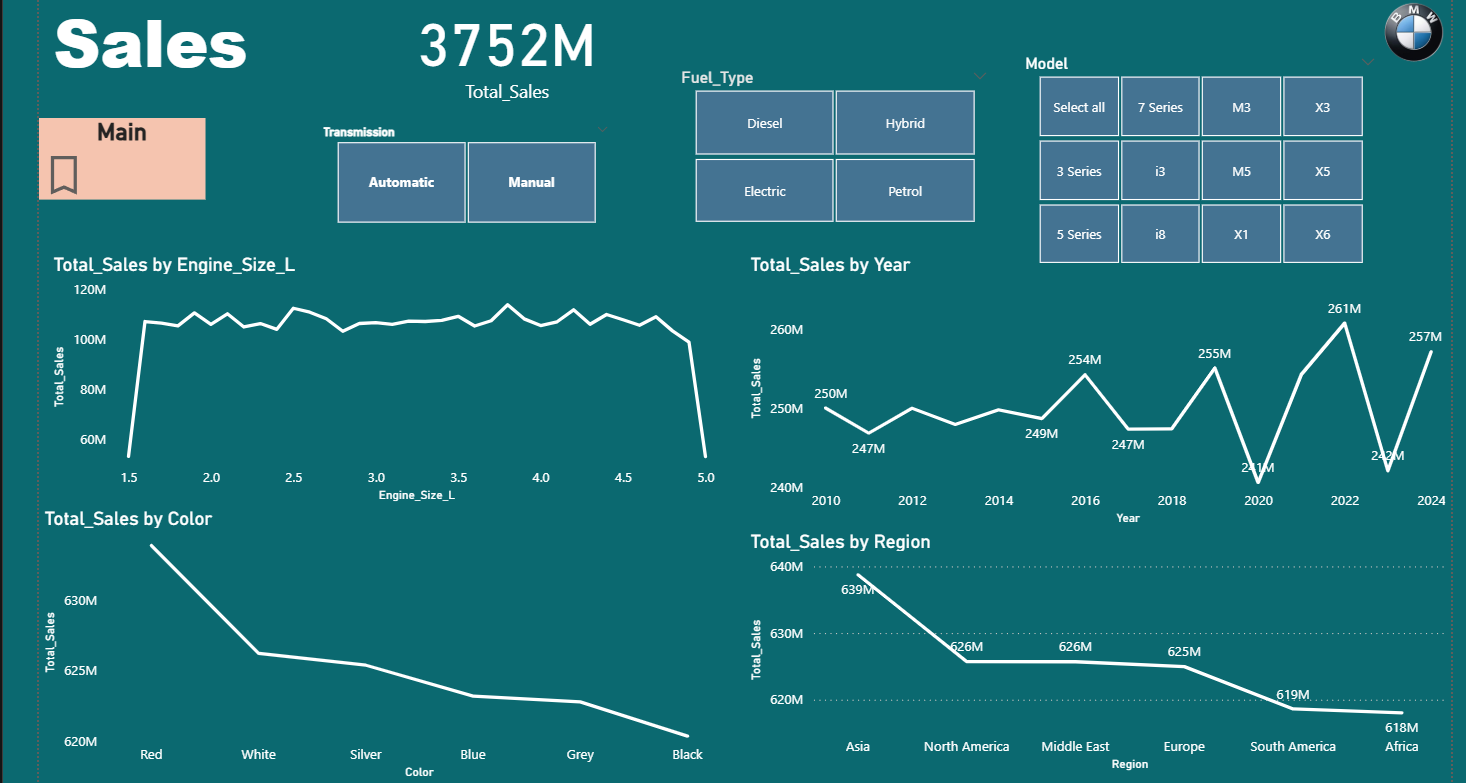

This screenshot's page, from the dashboard's own definition file:
{"tool":"powerbi","page":{"name":"Sales","canvas":[1280,720],"ordinal":1},"visuals":[{"type":"textbox","box":[8.2,0,201.3,101.6],"z":0},{"type":"image","box":[1052.8,0,227.6,182.3],"z":1000},{"type":"lineChart","fields":{"Category":["BMW sales data (2010-2024) (1).Region"],"Y":["BMW sales data (2010-2024) (1).Total_Sales"]},"box":[640.2,489.7,640.2,223.1],"z":2000},{"type":"lineChart","fields":{"Category":["BMW sales data (2010-2024) (1).Color"],"Y":["BMW sales data (2010-2024) (1).Total_Sales"]},"box":[0,468.8,632,251.2],"z":3000},{"type":"slicer","fields":{"Values":["BMW sales data (2010-2024) (1).Fuel_Type"]},"box":[569.5,66.2,302.9,151.4],"z":4000},{"type":"slicer","fields":{"Values":["BMW sales data (2010-2024) (1).Model"]},"box":[881.4,53.5,342.8,201.3],"z":5000},{"type":"lineChart","fields":{"Y":["BMW sales data (2010-2024) (1).Total_Sales"],"Category":["BMW sales data (2010-2024) (1).Year"]},"box":[640.2,238.5,640.2,251.2],"z":6000},{"type":"lineChart","fields":{"Category":["BMW sales data (2010-2024) (1).Engine_Size_L"],"Y":["BMW sales data (2010-2024) (1).Total_Sales"]},"box":[8.2,238.5,611.2,230.3],"z":7000},{"type":"slicer","fields":{"Values":["BMW sales data (2010-2024) (1).Transmission"]},"box":[244.8,116.6,283.7,100.8],"z":8000},{"type":"card","fields":{"Values":["BMW sales data (2010-2024) (1).Total_Sales"]},"box":[272,0,304.7,106.1],"z":9000},{"type":"actionButton","title":"Main","box":[0,116.1,150.5,74.4],"z":10000}]}

Visuals, with their boxes on the page's 1280x720 design canvas (x1, y1, x2, y2). These are canvas units, not pixel positions in the 1466x783 screenshot, which may show the page scaled, cropped or inside an application window:
textbox: {"x1": 8, "y1": 0, "x2": 210, "y2": 102}
image: {"x1": 1053, "y1": 0, "x2": 1280, "y2": 182}
lineChart - BMW sales data (2010-2024) (1).Region x BMW sales data (2010-2024) (1).Total_Sales: {"x1": 640, "y1": 490, "x2": 1280, "y2": 713}
lineChart - BMW sales data (2010-2024) (1).Color x BMW sales data (2010-2024) (1).Total_Sales: {"x1": 0, "y1": 469, "x2": 632, "y2": 720}
slicer - BMW sales data (2010-2024) (1).Fuel_Type: {"x1": 570, "y1": 66, "x2": 872, "y2": 218}
slicer - BMW sales data (2010-2024) (1).Model: {"x1": 881, "y1": 54, "x2": 1224, "y2": 255}
lineChart - BMW sales data (2010-2024) (1).Total_Sales x BMW sales data (2010-2024) (1).Year: {"x1": 640, "y1": 238, "x2": 1280, "y2": 490}
lineChart - BMW sales data (2010-2024) (1).Engine_Size_L x BMW sales data (2010-2024) (1).Total_Sales: {"x1": 8, "y1": 238, "x2": 619, "y2": 469}
slicer - BMW sales data (2010-2024) (1).Transmission: {"x1": 245, "y1": 117, "x2": 528, "y2": 217}
card - BMW sales data (2010-2024) (1).Total_Sales: {"x1": 272, "y1": 0, "x2": 577, "y2": 106}
"Main" actionButton: {"x1": 0, "y1": 116, "x2": 150, "y2": 190}
